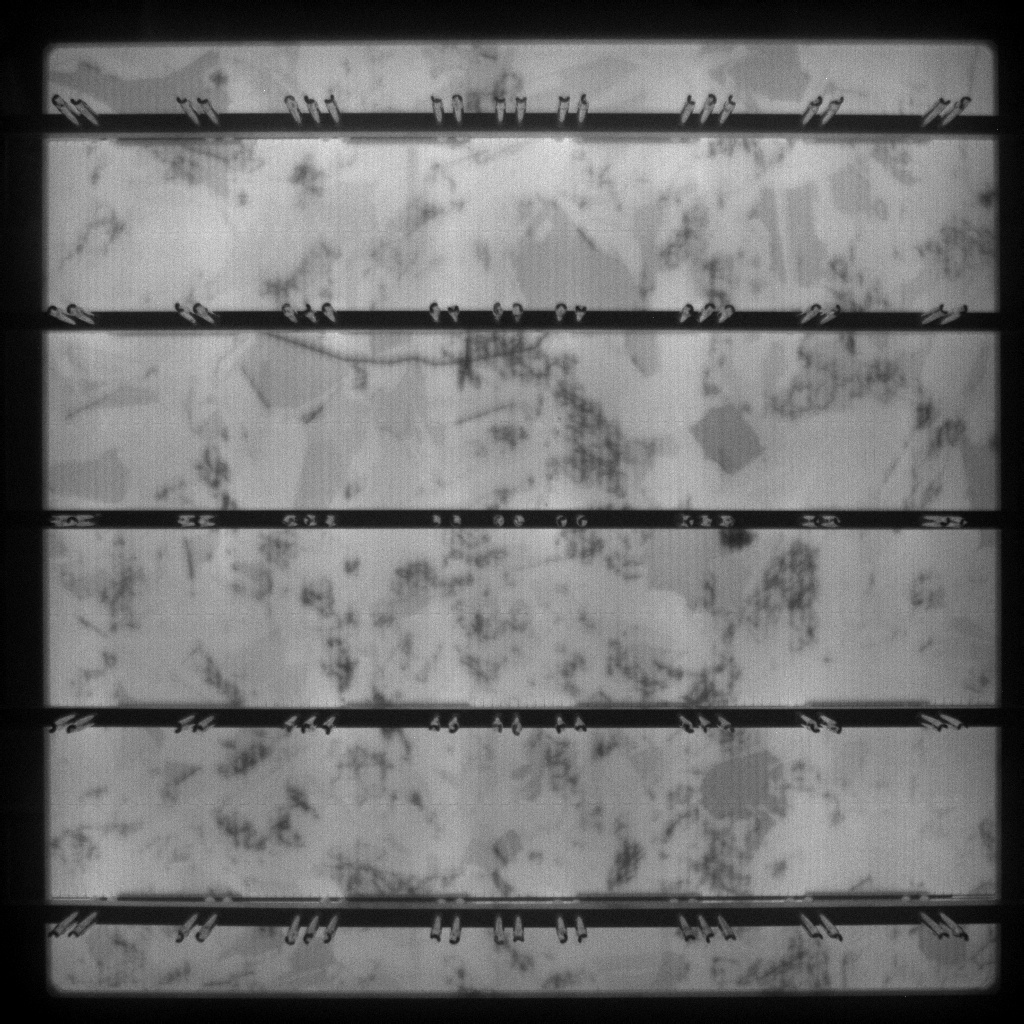crack: (264, 332, 539, 389)
